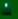green: (0, 0, 18, 19)
